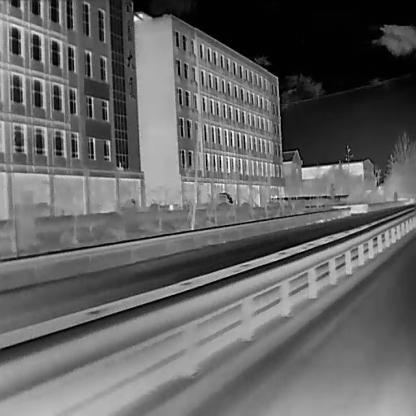car: (196, 191, 233, 210)
